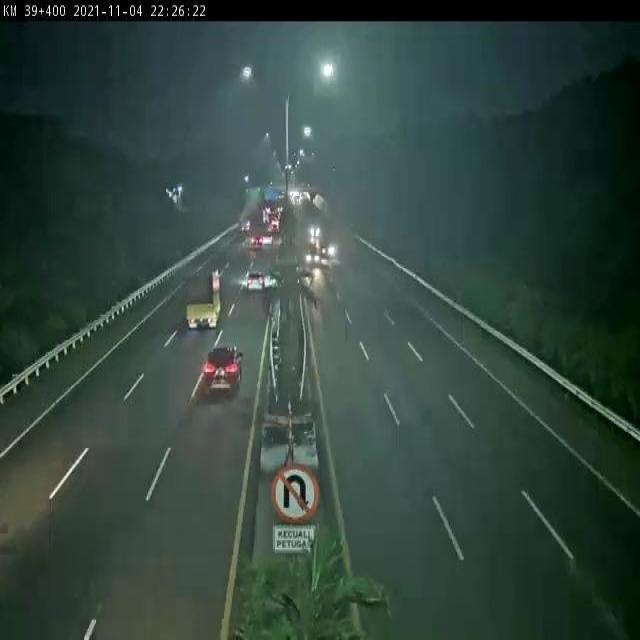Car: (202, 346, 243, 398), (243, 272, 264, 295)
Truck: (186, 271, 223, 332)
